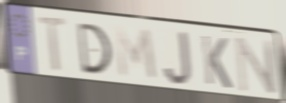D: (75, 21, 114, 76)
J: (162, 29, 194, 88)
K: (199, 33, 234, 91)
M: (112, 24, 160, 84)
N: (233, 35, 280, 96)
T: (35, 13, 72, 75)
